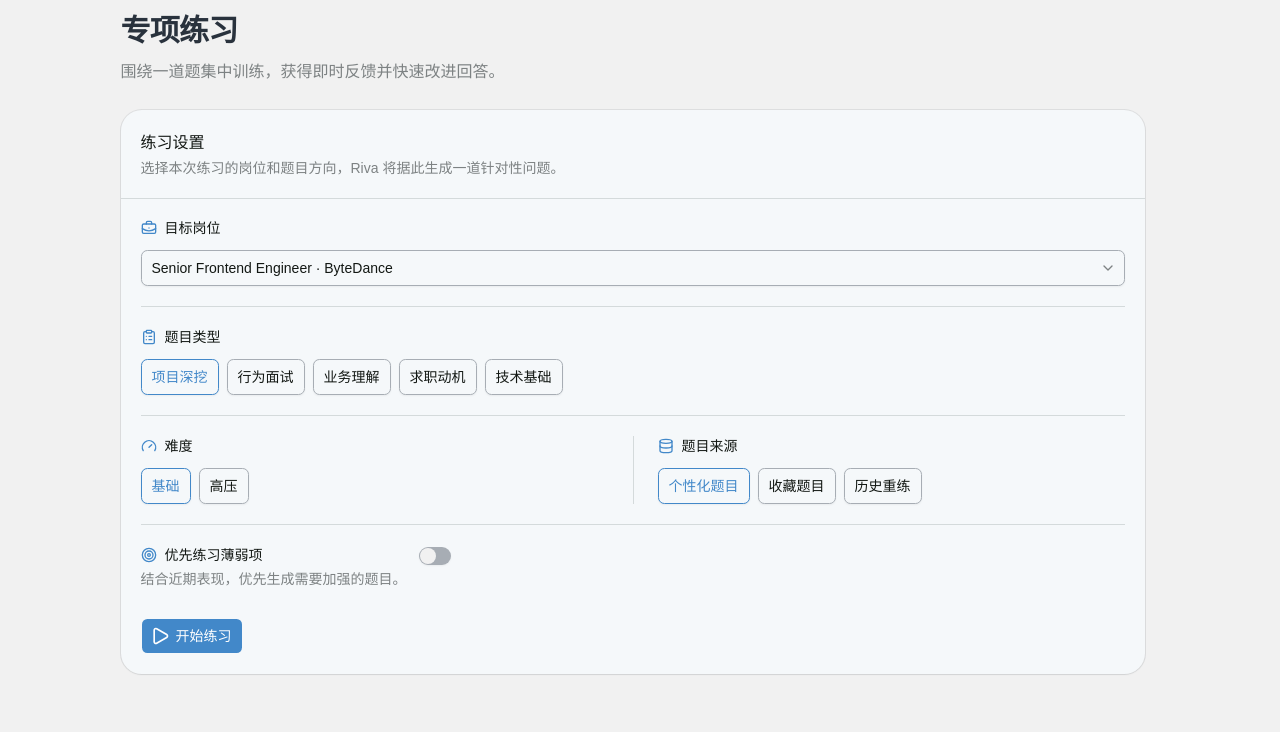
Test: PracticeView › derives technical-question availability from the selected role
Expected: the button "技术基础" is shown, [484, 359, 562, 395]
Click the dropdown with test id "practice-target-role-trigger" at [272, 268], box [140, 250, 1124, 286]
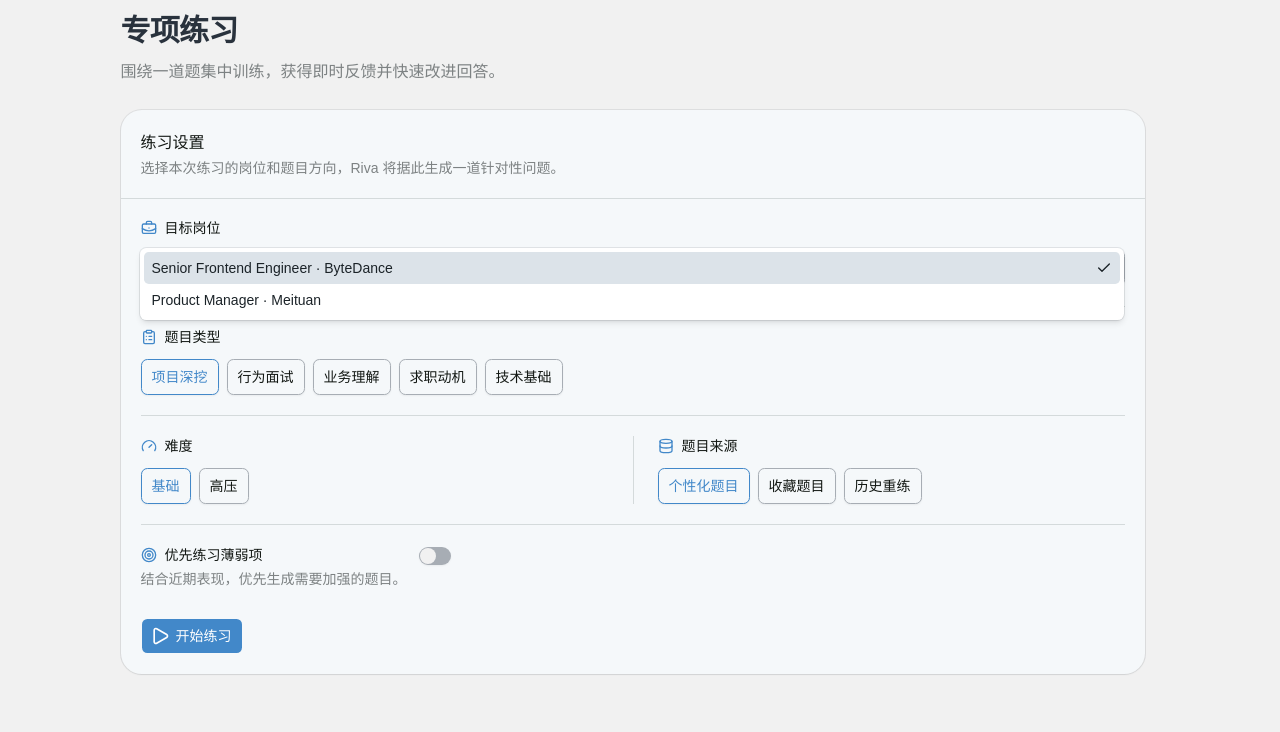
Click the option "Product Manager · Meituan" at [236, 300], box [152, 292, 321, 308]
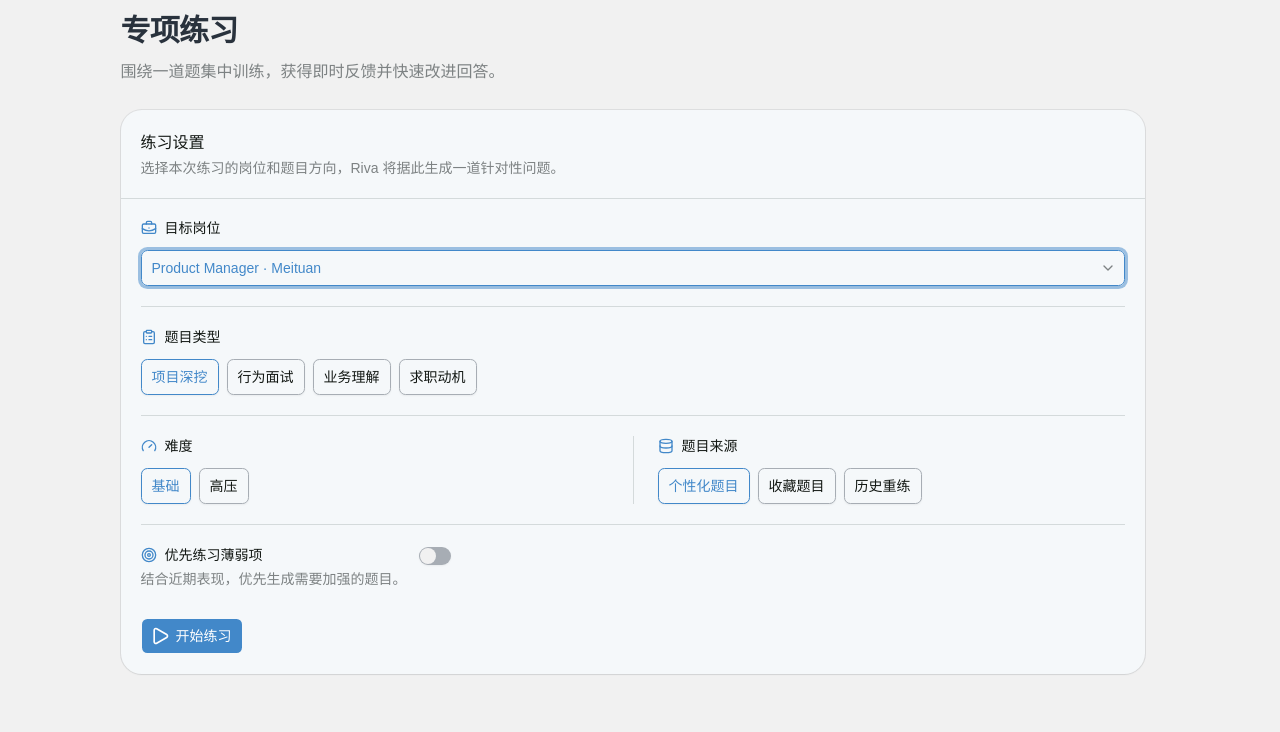
Now the button "技术基础" is gone
